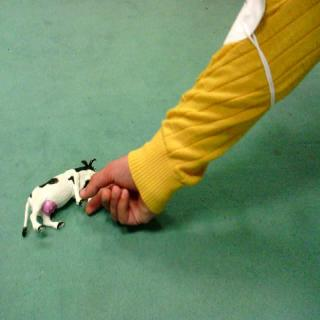cow: (22, 158, 106, 248)
